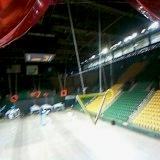Orange_Circle_GShape: (10, 96, 18, 102)
Orange_Square_GShape: (61, 90, 67, 97)
Orange_Triangle_Gshape: (33, 90, 42, 98)
Yellow_Circle_GShape: (104, 89, 114, 101)
Yellow_Triangle_Gshape: (75, 93, 107, 126)
